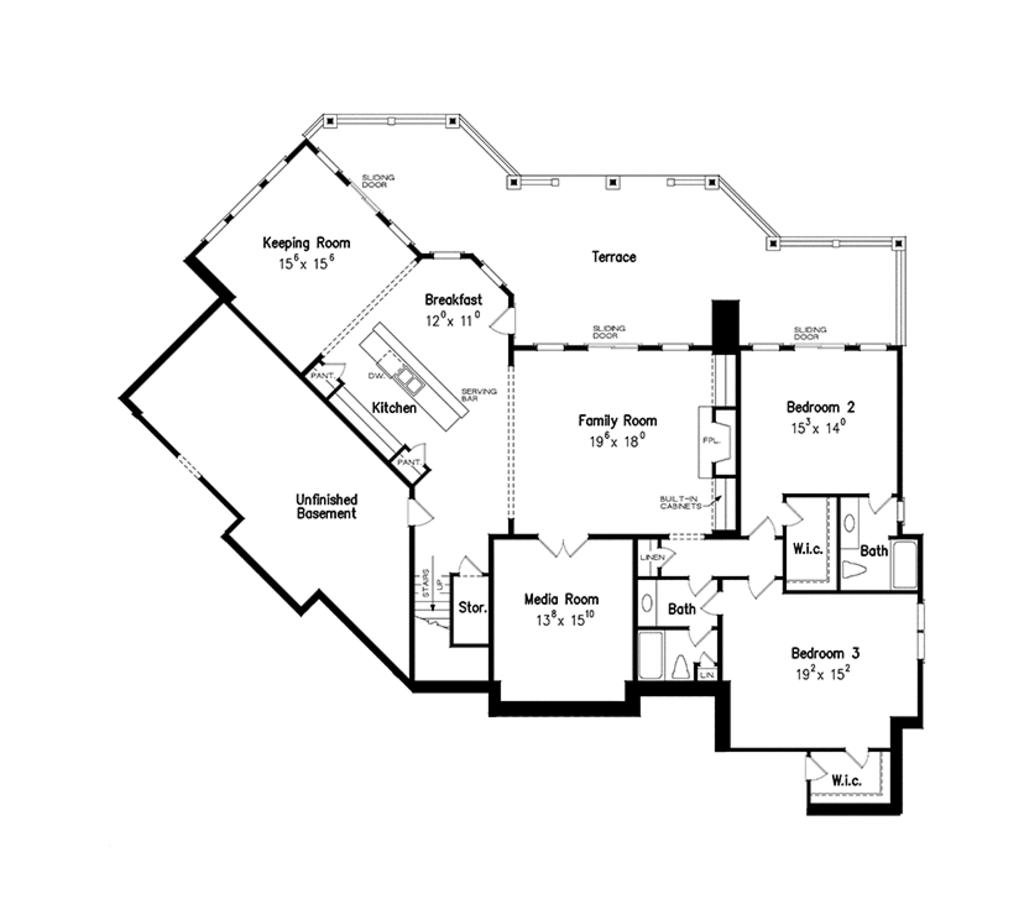door: (736, 568, 782, 605), (536, 532, 593, 560), (489, 298, 525, 341), (741, 508, 776, 546), (405, 494, 443, 528), (703, 585, 730, 618), (679, 571, 712, 597), (457, 547, 483, 578), (843, 747, 875, 772), (783, 494, 805, 529), (654, 543, 678, 575), (865, 490, 894, 514), (804, 758, 830, 783), (405, 444, 433, 460)
kitchen_bar: (357, 325, 478, 432)
large_sink: (846, 548, 875, 585)
small_sink: (836, 496, 865, 546)
stairs: (415, 547, 453, 639)
tub: (893, 532, 921, 591)
window: (204, 150, 298, 241), (909, 600, 937, 658), (175, 450, 212, 480)
